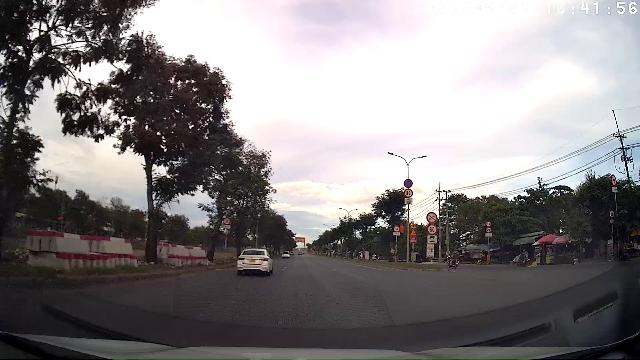127-toc-do-toi-da-60: (427, 224, 438, 235)
127-toc-do-toi-da-80: (404, 189, 413, 198)
130-cam-dung-va-do-xe: (404, 179, 413, 188)
